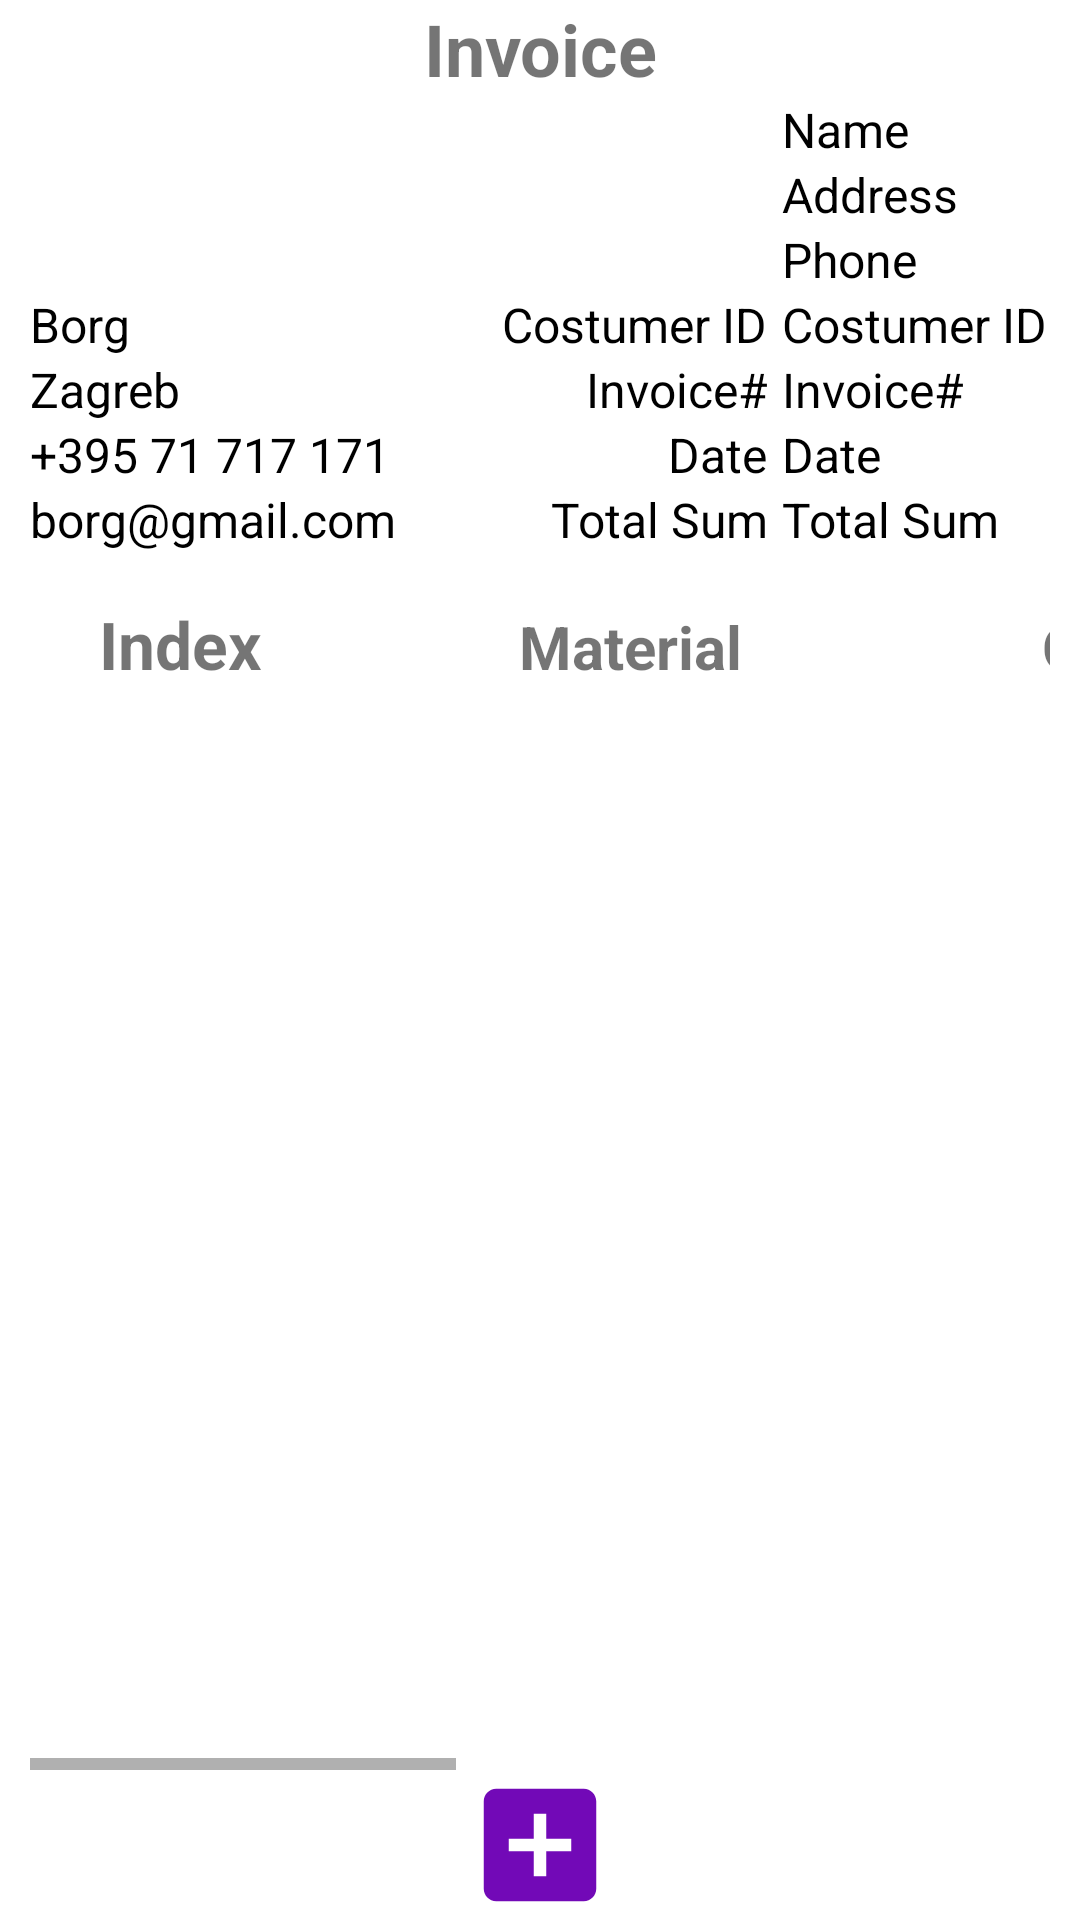

Icons on this 1080x1920 Android screen, each with its box as (x1, y1, x2, y2):
add: (483, 1788, 597, 1902)
